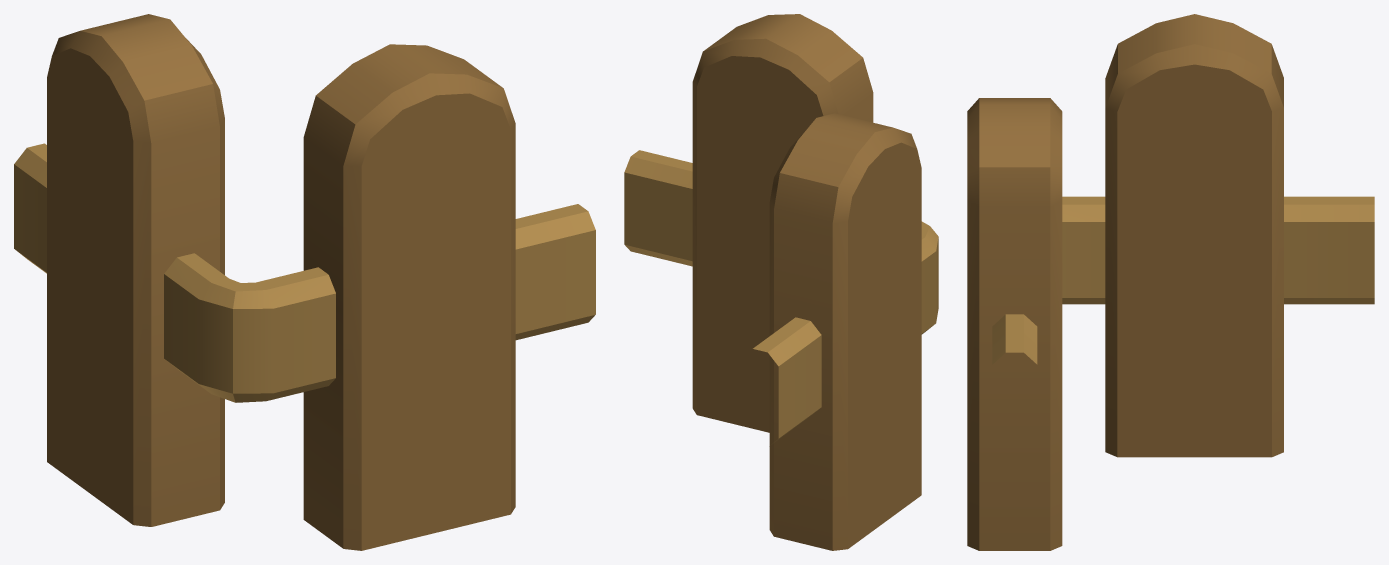
The model's file is fence_corner.glb.
The picture shows the model from 3 angles, left to right: view 1: azimuth 30°, elevation 25°; view 2: azimuth 150°, elevation 25°; view 3: azimuth 270°, elevation 25°; orthographic projection. The views are drawn at different scales.
Visible parts, largest first — view 1: Fence_Corner; view 2: Fence_Corner; view 3: Fence_Corner.
Part boxes in pixels (box(x1,y1,x2,y2)): Fence_Corner: box(14, 14, 595, 550); Fence_Corner: box(624, 14, 938, 550); Fence_Corner: box(967, 14, 1374, 550).
Bounding box in the file's own units: 1.13 × 1.25 × 1.13.
